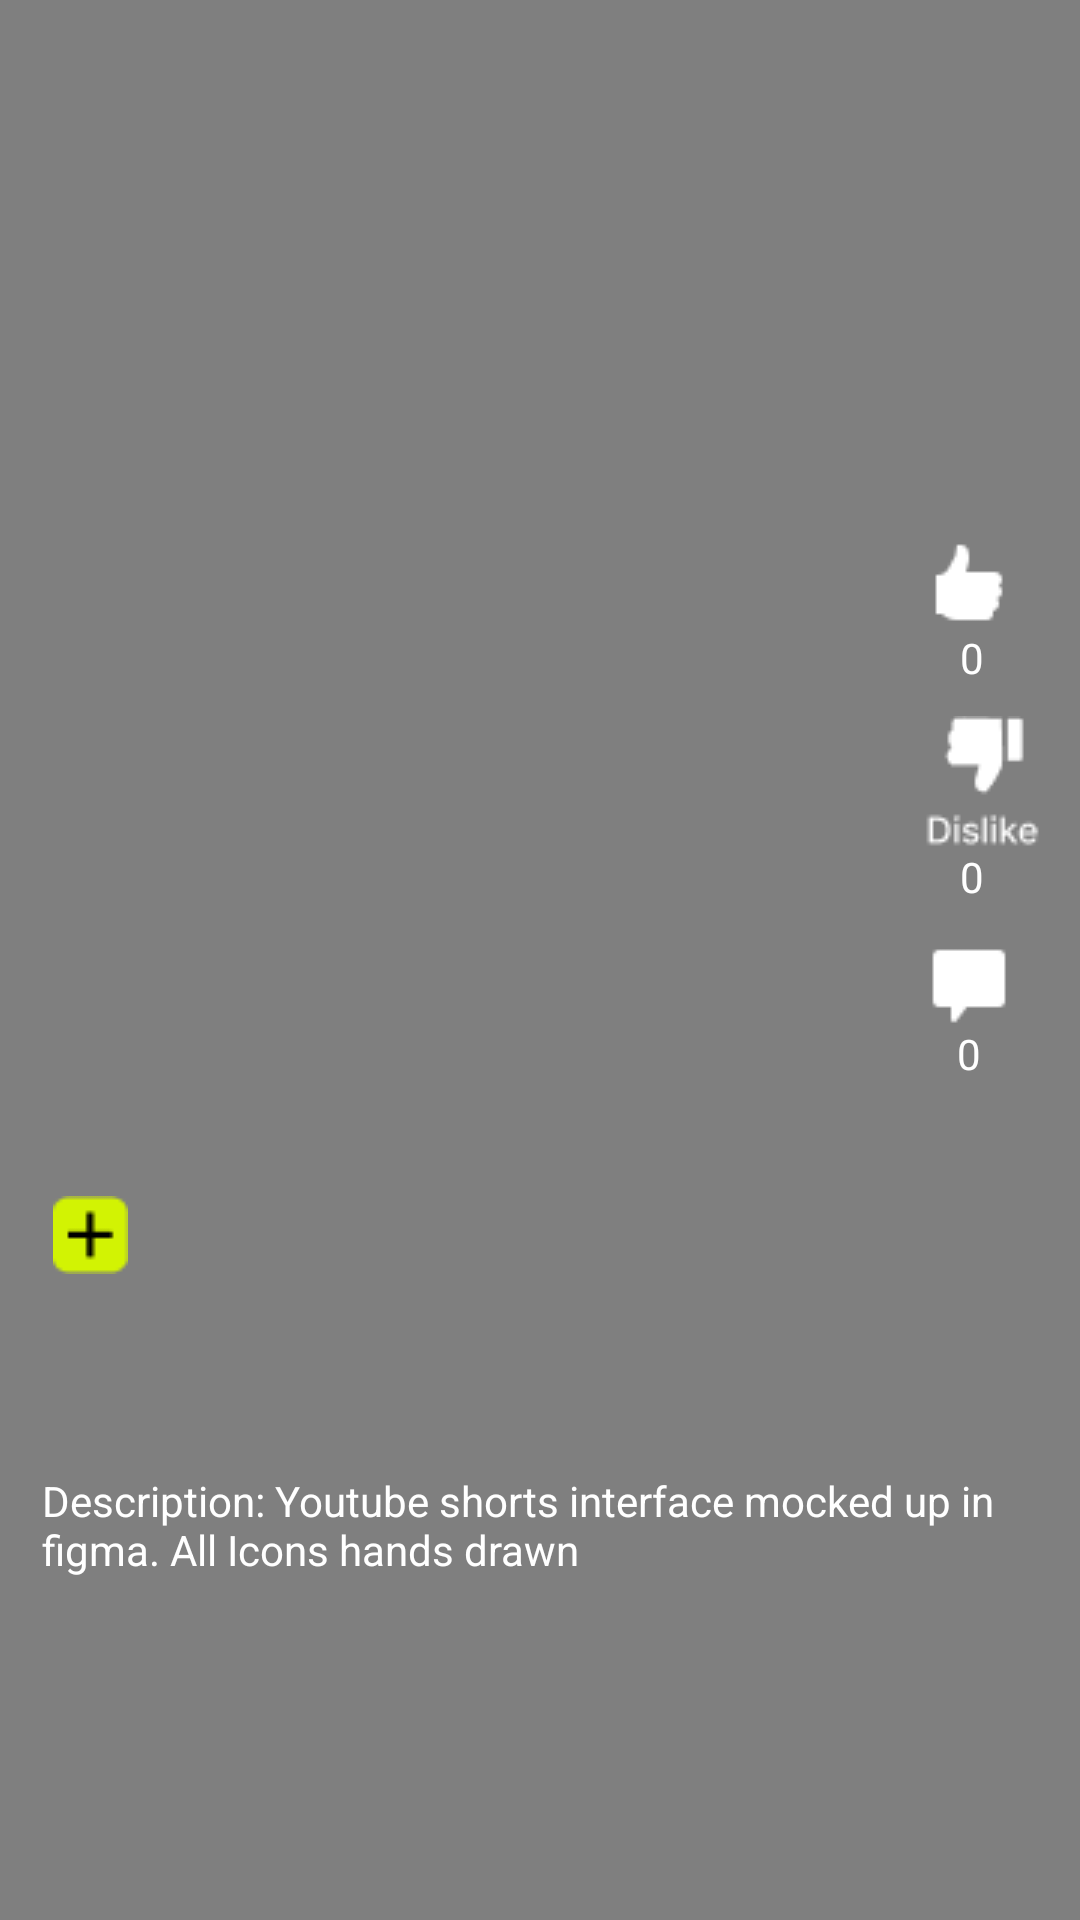

Locate icon controls on the screen. Image size 1080x1920, boxes as (left=x1, top=y1, right=x2, bottom=y2).
add: (left=53, top=1196, right=128, bottom=1274)
comment: (left=932, top=949, right=1006, bottom=1023)
like: (left=935, top=544, right=1003, bottom=621)
